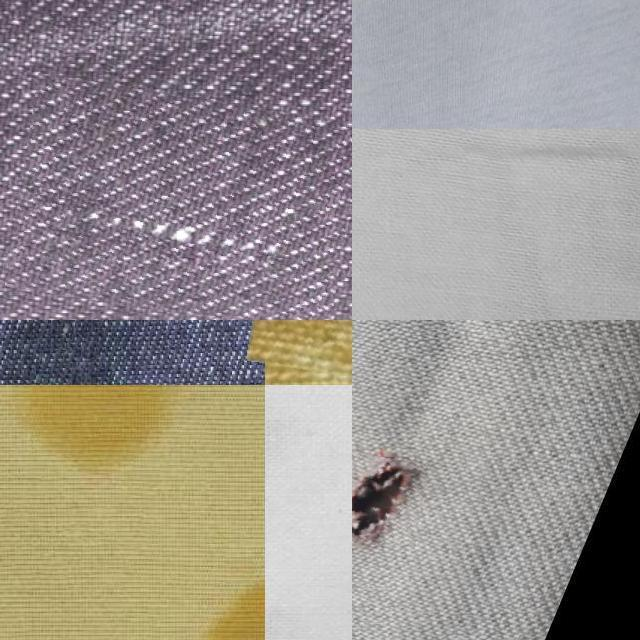Hole: (0, 385, 225, 485), (149, 532, 264, 640), (0, 320, 171, 385)
Thread_other: (11, 85, 352, 320)
seam: (352, 454, 424, 548)
